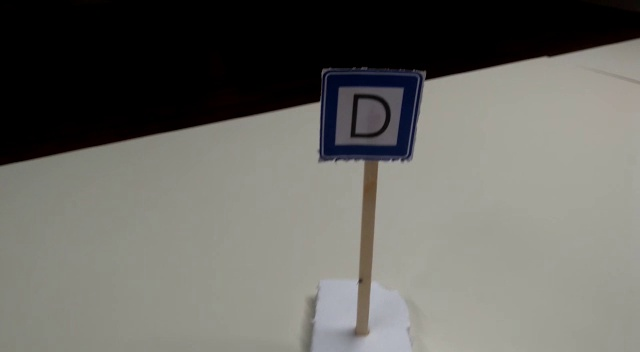durak: (319, 72, 419, 161)
